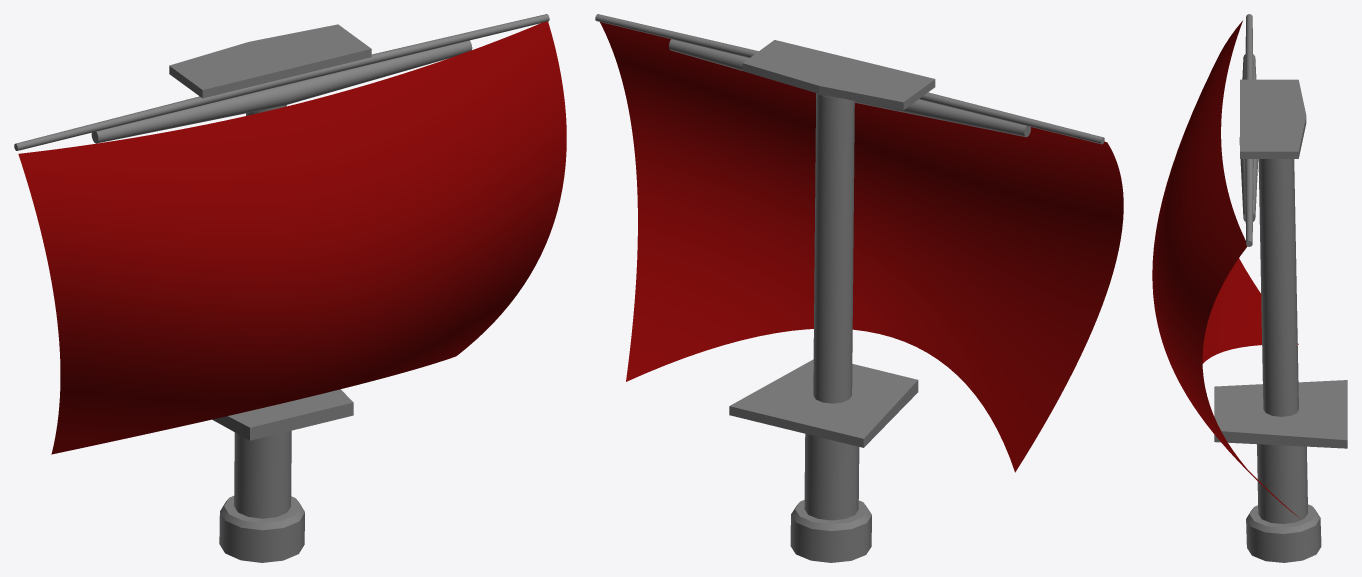
The model's file is MastMid.fbx.
3 views of the same model, side by side, from view 1: azimuth 30°, elevation 25°; view 2: azimuth 150°, elevation 25°; view 3: azimuth 270°, elevation 25° (orthographic). The views are drawn at different scales.
Parts seen in each view (by area): view 1: Cylinder007; view 2: Cylinder007; view 3: Cylinder007.
Boxes of the visible parts, <box> form: Cylinder007: <box>14,14,566,562</box>; Cylinder007: <box>595,14,1123,562</box>; Cylinder007: <box>1152,14,1347,562</box>.
Bounding box in the file's own units: 34.93 × 30.95 × 12.68.
